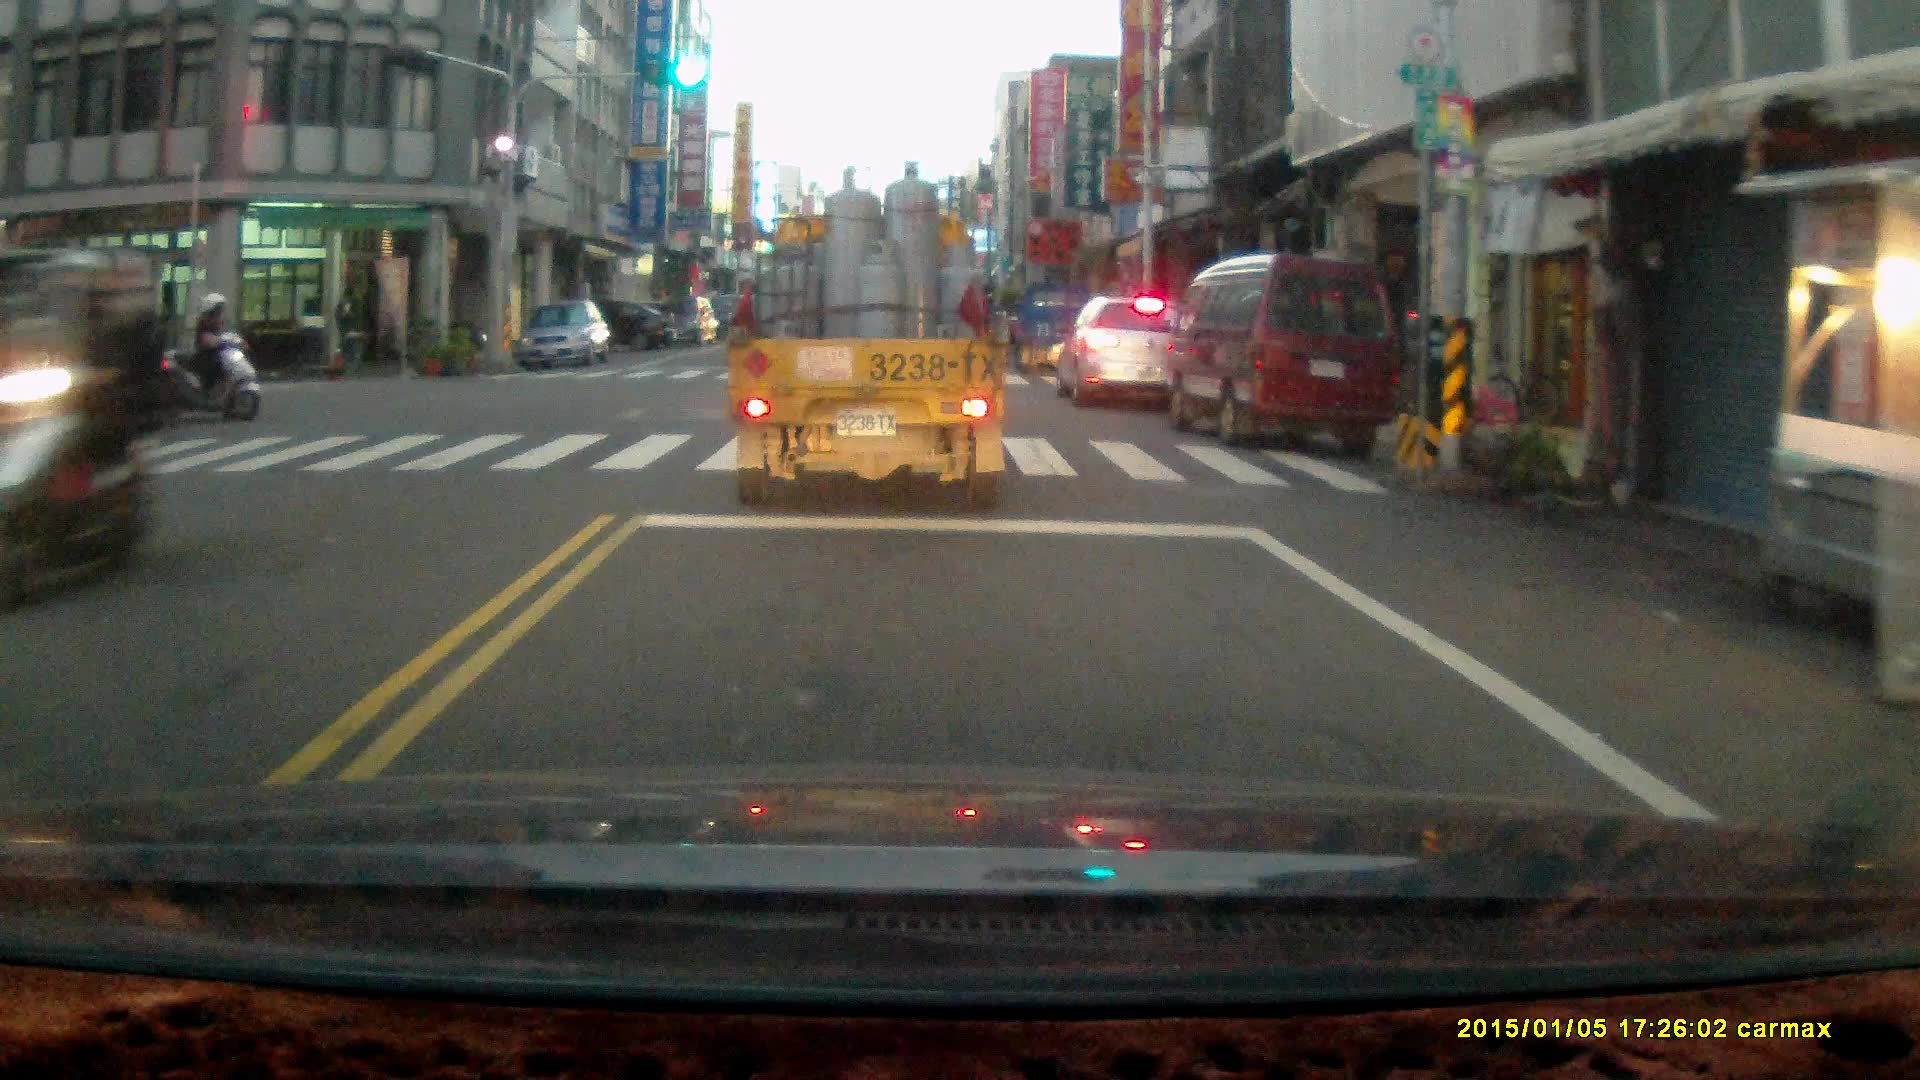pedestrian: (331, 281, 365, 376)
rider: (0, 235, 164, 603), (151, 287, 260, 418)
vehicle: (730, 164, 1015, 512), (1170, 251, 1409, 453), (1, 247, 157, 435), (1050, 289, 1204, 415), (1010, 281, 1100, 381), (548, 298, 677, 358), (518, 299, 616, 372), (635, 295, 718, 344)
